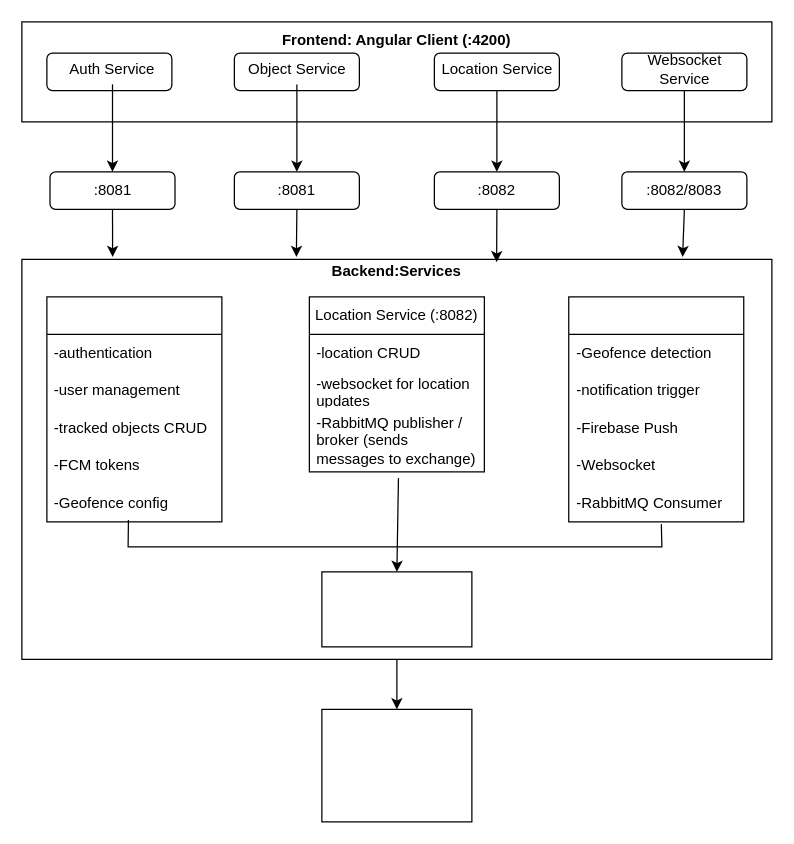
Image size: 794x844. Some labels were removed from this diagram. The shapes that lost their labels are listed below. From the top down, each one's box as (x1, y1, x2, y2) in pixels, then its label:
(46, 296, 222, 522): User Service (:8081)
(568, 296, 744, 522): Geofence Service (:8083)
(321, 571, 472, 647): RabbitMQ location.exchange notification.exchange
(321, 708, 472, 822): PostgreSQL object-tracker-db - users - tracked objects - notifications
